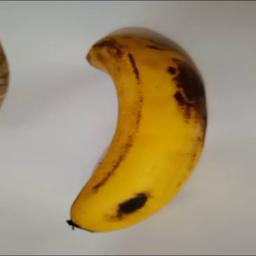Banana Semifresh: (68, 33, 209, 237)
